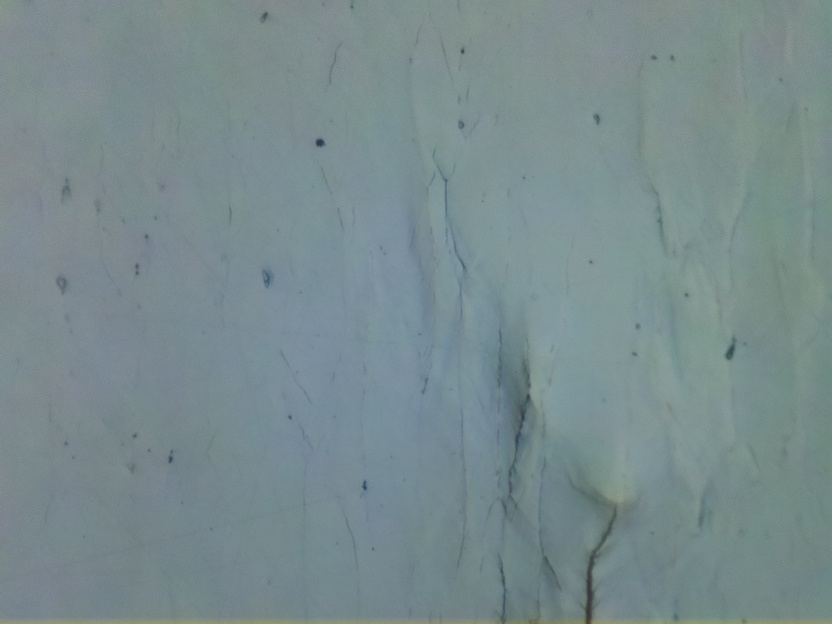crack: (577, 508, 619, 624)
